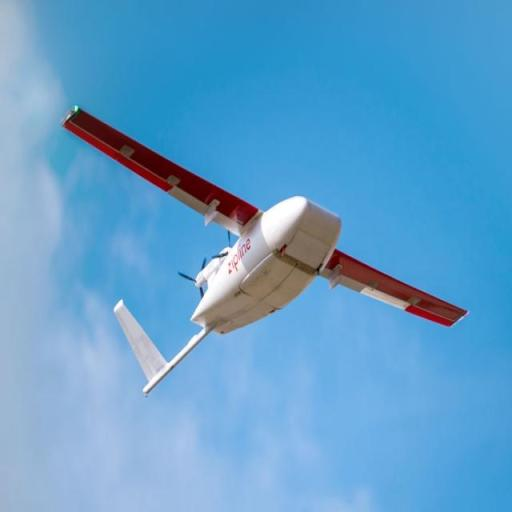uav: (58, 101, 471, 404)
